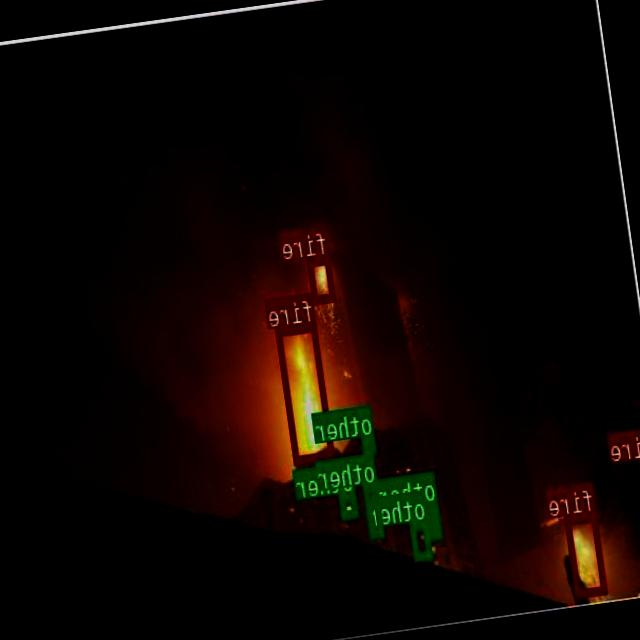fire: (276, 322, 336, 463), (566, 511, 609, 596), (308, 254, 338, 303)
